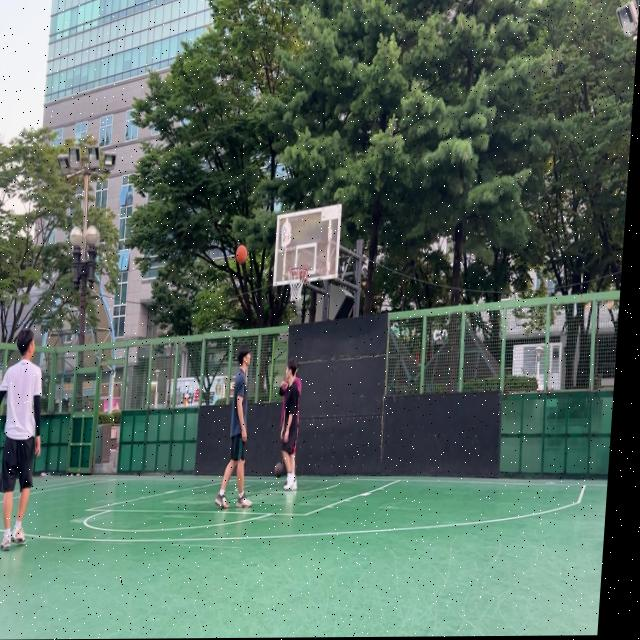basketball: (236, 244, 248, 264), (274, 461, 284, 478)
hoop: (285, 266, 309, 303)
